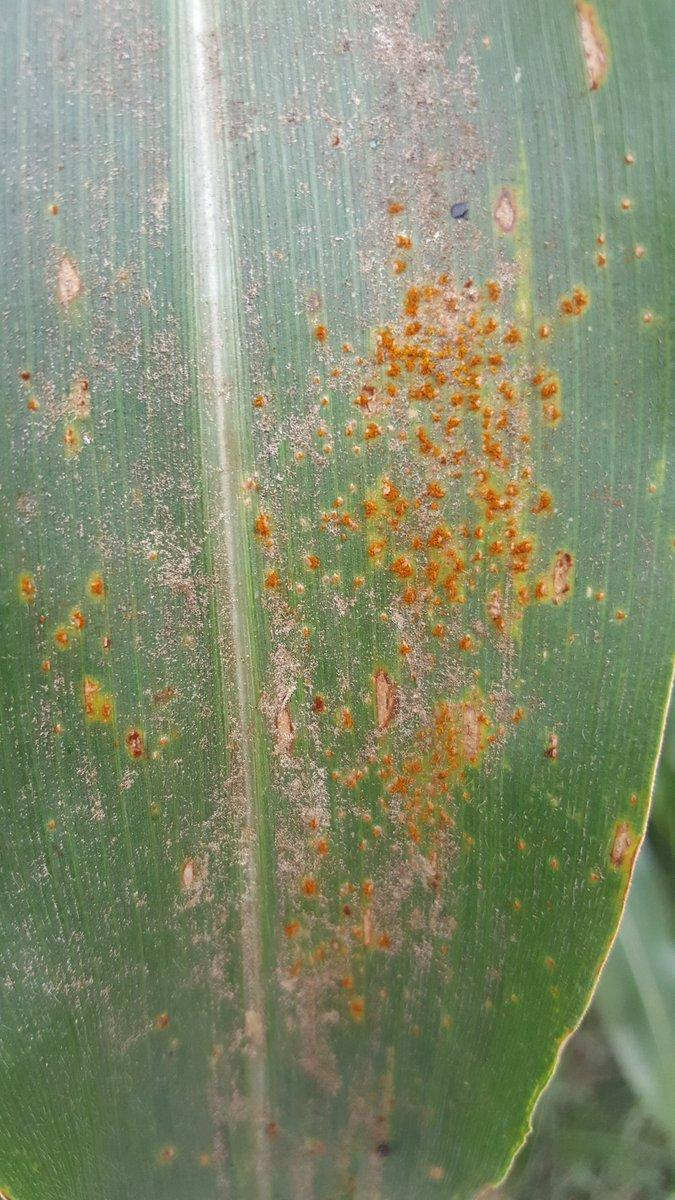Corn rust leaf: (4, 6, 670, 1199)
